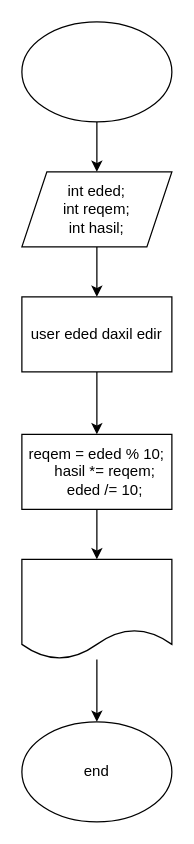
This 194x844 diagram has some shape labels left out. The shapes that lost their labels are listed below. From the top down, each one's box as (x1, y1, x2, y2) in pixels, then its label:
(21, 21, 172, 122): start
(21, 558, 172, 659): print hasil
